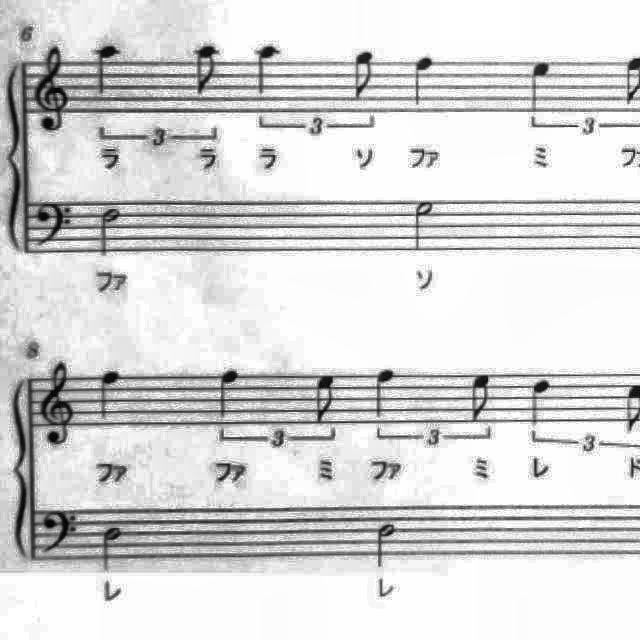Bass-clef: (32, 195, 80, 253), (38, 502, 84, 562)
Eighth-note: (344, 43, 382, 105), (187, 39, 225, 101), (308, 366, 344, 426), (465, 369, 499, 426)
Half-note: (408, 193, 442, 255), (93, 202, 127, 262), (95, 521, 128, 577), (370, 519, 402, 575)
Quarter-note: (249, 37, 291, 99), (89, 38, 127, 102), (522, 54, 558, 118), (406, 48, 442, 112), (212, 363, 248, 425), (92, 364, 128, 426), (521, 370, 557, 430), (368, 363, 402, 421)
Treble-clef: (37, 356, 83, 452), (32, 38, 76, 134)
